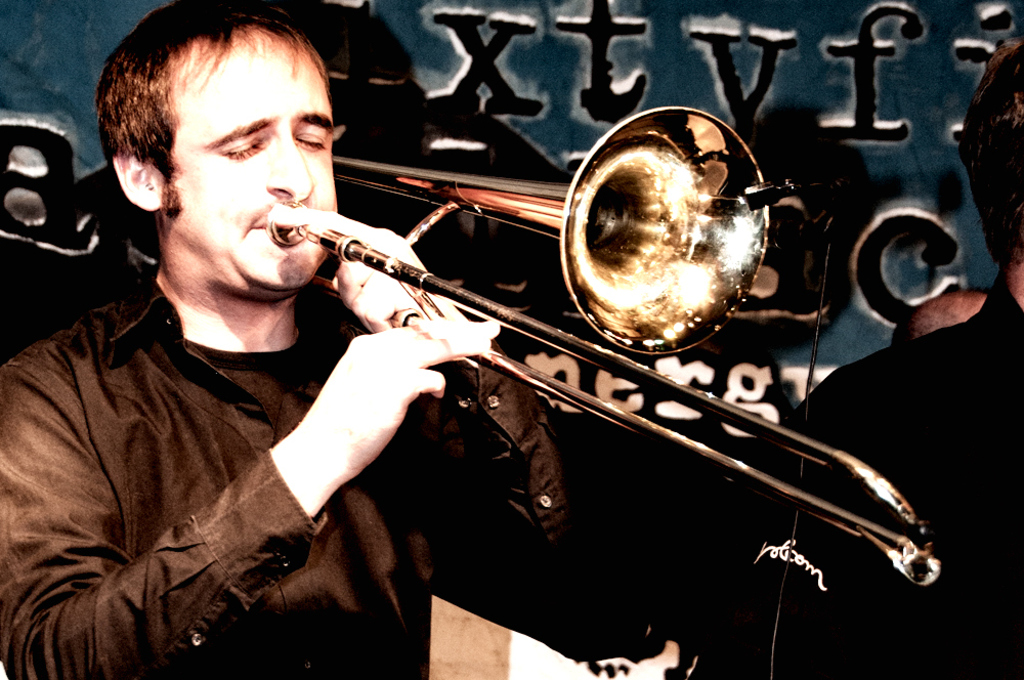Person: (0, 0, 569, 679), (663, 35, 1024, 680), (891, 295, 988, 351)
